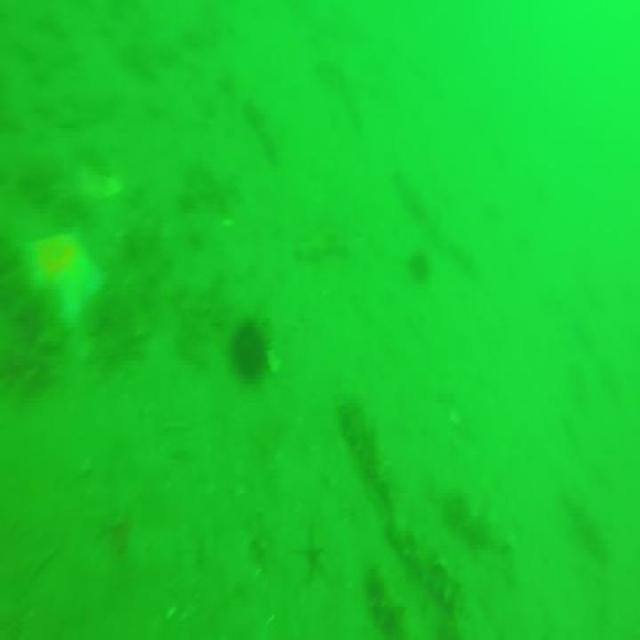echinus: (230, 319, 267, 386)
holothurian: (388, 512, 468, 619), (343, 393, 398, 502), (372, 569, 411, 640)
starfish: (22, 230, 110, 322)
